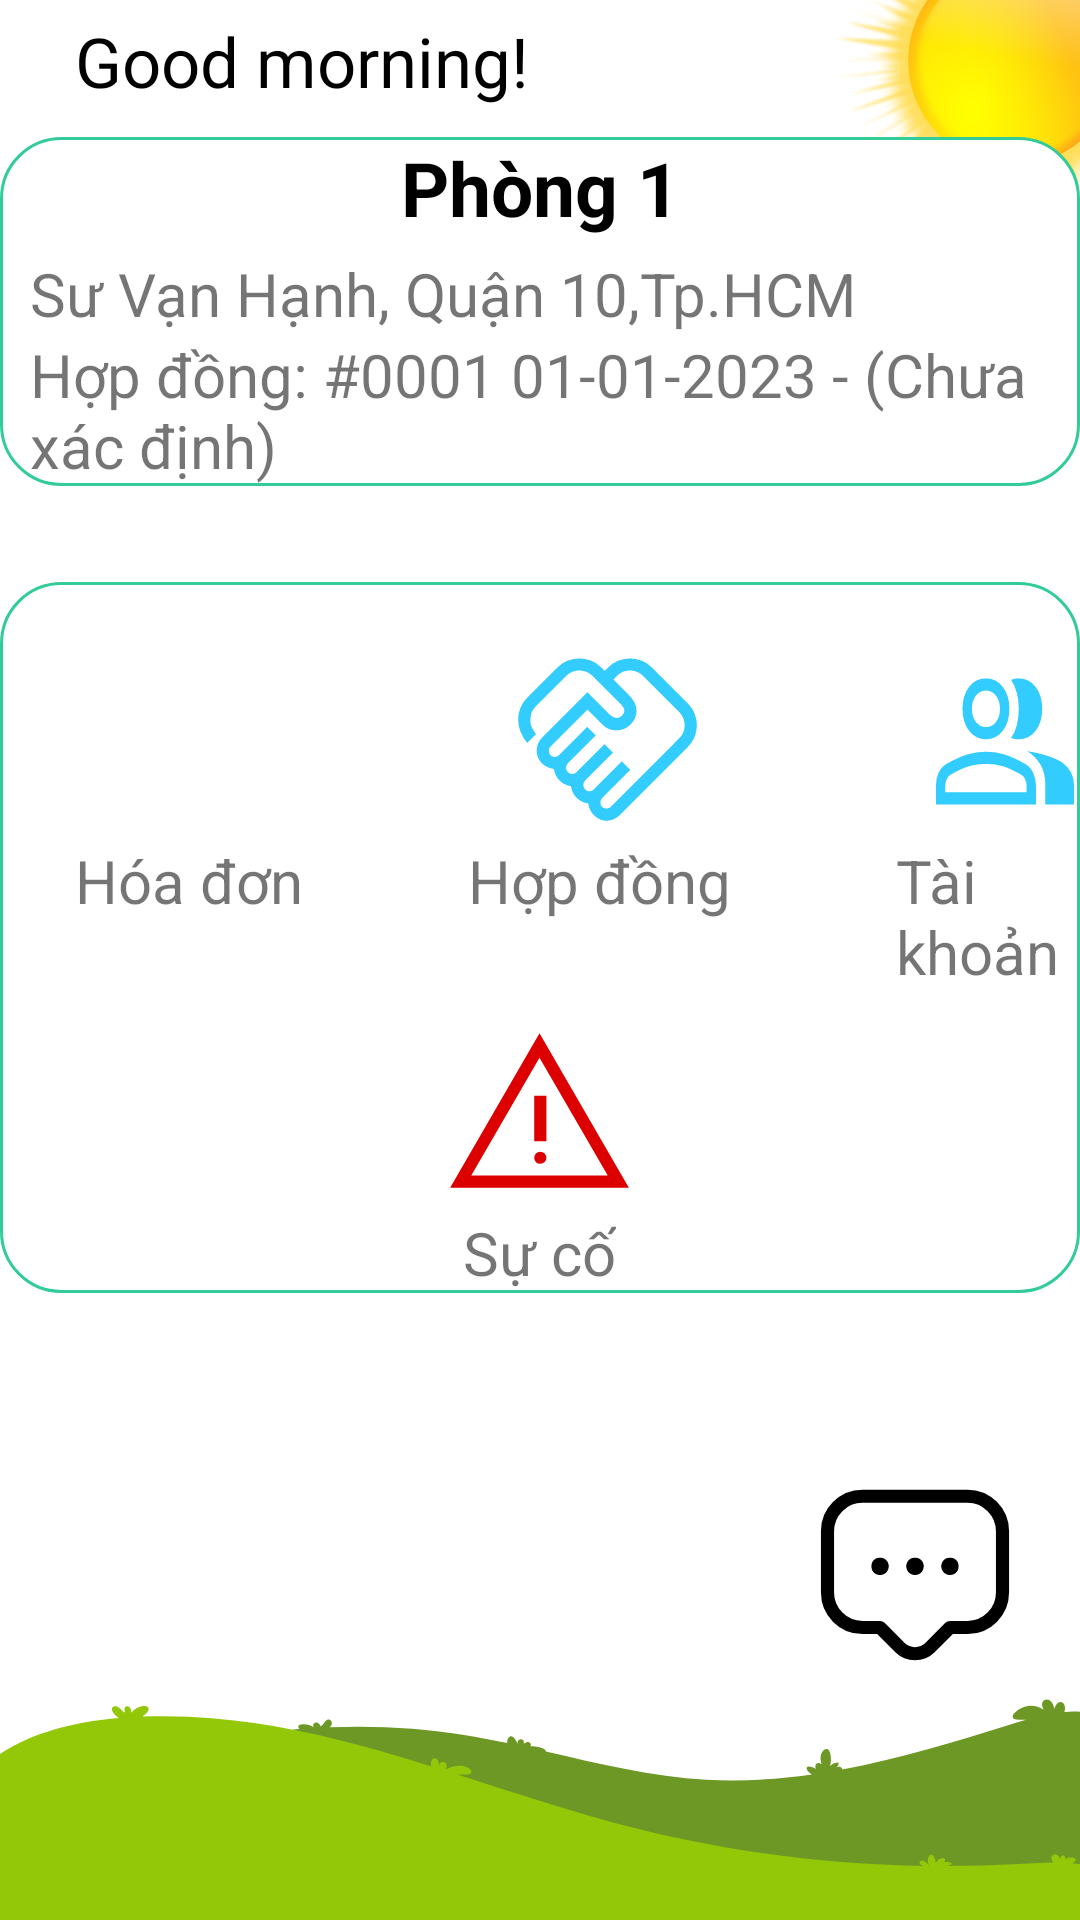

Where icons sit on this 1080px x 1920px app screen, as bbox=(x1, y1, x2, y2):
message: bbox=(821, 1489, 1009, 1661)
nguoi thue: bbox=(936, 678, 1074, 805)
